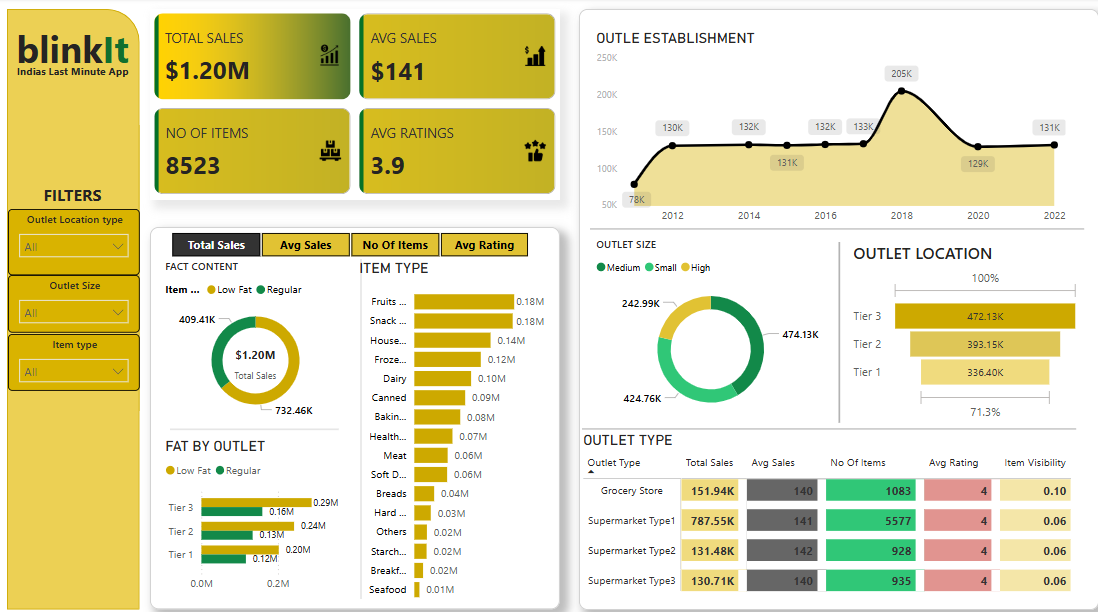

What the dashboard file says about the page in this screenshot:
{"tool":"powerbi","page":{"name":"Page 1","canvas":[1280,720],"ordinal":0},"visuals":[{"type":"shape","box":[675.2,12.5,604.5,697.6],"z":0},{"type":"shape","box":[10.7,12.5,154,697.6],"z":1000},{"type":"cardVisual","fields":{"Data":["BlinkIT Grocery Data.Total Sales","BlinkIT Grocery Data.Avg Sales","BlinkIT Grocery Data.no of items","BlinkIT Grocery Data.Avg Rating"]},"box":[176.6,12.8,476.2,221.9],"z":2000},{"type":"shape","box":[176.4,266,476.4,444.2],"z":3000},{"type":"textbox","box":[9.9,35.8,154,69.9],"z":4000},{"type":"textbox","box":[9.9,70.7,154.9,28.7],"z":5000},{"type":"donutChart","title":"FACT CONTENT","fields":{"Y":["BlinkIT Grocery Data.Total Sales"],"Category":["BlinkIT Grocery Data.Item Fat Content"]},"box":[189.3,303.2,219.5,191.7],"z":6000},{"type":"slicer","fields":{"Values":["Parameter.Parameter"]},"box":[176.6,266,463.4,37.2],"z":7000},{"type":"cardVisual","fields":{"Data":["BlinkIT Grocery Data.Total Sales"]},"box":[233.5,381,131.3,88.3],"z":8000},{"type":"clusteredBarChart","title":"FAT BY OUTLET","fields":{"Y":["BlinkIT Grocery Data.Total Sales"],"Category":["BlinkIT Grocery Data.Outlet Location Type"],"Series":["BlinkIT Grocery Data.Item Fat Content"]},"box":[189.3,509.9,225.3,188.2],"z":9000},{"type":"shape","box":[199.8,492.5,196.3,17.4],"z":10000},{"type":"shape","box":[414.7,303.2,13.9,394.9],"z":11000},{"type":"barChart","title":"ITEM TYPE","fields":{"Y":["BlinkIT Grocery Data.Total Sales"],"Category":["BlinkIT Grocery Data.Item Type"]},"box":[414.7,303.2,225.3,406.5],"z":12000},{"type":"lineChart","title":"OUTLE ESTABLISHMENT","fields":{"Y":["BlinkIT Grocery Data.Total Sales"],"Category":["BlinkIT Grocery Data.Outlet Establishment Year"]},"box":[689.9,36,555.2,234.6],"z":13000},{"type":"shape","box":[687.6,253.2,573.8,30.2],"z":14000},{"type":"donutChart","title":"OUTLET SIZE","fields":{"Y":["BlinkIT Grocery Data.Total Sales"],"Category":["BlinkIT Grocery Data.Outlet Size"]},"box":[689.6,277.6,275.8,217.6],"z":15000},{"type":"shape","box":[965.2,283.4,24.4,210.2],"z":16000},{"type":"funnel","title":"OUTLET LOCATION","fields":{"Y":["Sum(BlinkIT Grocery Data.Sales)"],"Category":["BlinkIT Grocery Data.Outlet Location Type"]},"box":[988.7,283,273.1,212.2],"z":17000},{"type":"pivotTable","title":"OUTLET TYPE","fields":{"Values":["BlinkIT Grocery Data.Total Sales","BlinkIT Grocery Data.Avg Sales","BlinkIT Grocery Data.No Of Items","BlinkIT Grocery Data.Avg Rating","Avg(BlinkIT Grocery Data.Item Visibility)"],"Rows":["BlinkIT Grocery Data.Outlet Type"]},"box":[674.8,502.9,586.6,195.1],"z":18000},{"type":"shape","box":[678.3,485.5,573.8,30.2],"z":19000},{"type":"slicer","title":"Outlet Location type","fields":{"Values":["BlinkIT Grocery Data.Outlet Location Type"]},"box":[11.6,245.1,153.3,76.7],"z":20000},{"type":"slicer","title":"Outlet Size","fields":{"Values":["BlinkIT Grocery Data.Outlet Size"]},"box":[11.6,321.7,153.3,67.4],"z":21000},{"type":"slicer","title":"Item type","fields":{"Values":["BlinkIT Grocery Data.Item Type"]},"box":[11.6,390.3,153.3,66.2],"z":22000},{"type":"textbox","box":[9.3,210.2,154.5,34.8],"z":23000}]}

Visuals, with their boxes in screenshot pixels (x1, y1, x2, y2), scaled from the page's 1280x720 canvas onto the 1098x612 screenshot:
shape: region(579, 11, 1097, 604)
shape: region(9, 11, 141, 604)
cardVisual - BlinkIT Grocery Data.Total Sales x BlinkIT Grocery Data.Avg Sales: region(151, 11, 560, 199)
shape: region(151, 226, 560, 604)
textbox: region(8, 30, 141, 90)
textbox: region(8, 60, 141, 84)
"FACT CONTENT" donutChart: region(162, 258, 351, 421)
slicer - Parameter.Parameter: region(151, 226, 549, 258)
cardVisual - BlinkIT Grocery Data.Total Sales: region(200, 324, 313, 399)
"FAT BY OUTLET" clusteredBarChart: region(162, 433, 356, 593)
shape: region(171, 419, 340, 433)
shape: region(356, 258, 368, 593)
"ITEM TYPE" barChart: region(356, 258, 549, 603)
"OUTLE ESTABLISHMENT" lineChart: region(592, 31, 1068, 230)
shape: region(590, 215, 1082, 241)
"OUTLET SIZE" donutChart: region(592, 236, 828, 421)
shape: region(828, 241, 849, 420)
"OUTLET LOCATION" funnel: region(848, 241, 1082, 421)
"OUTLET TYPE" pivotTable: region(579, 427, 1082, 593)
shape: region(582, 413, 1074, 438)
"Outlet Location type" slicer: region(10, 208, 141, 274)
"Outlet Size" slicer: region(10, 273, 141, 331)
"Item type" slicer: region(10, 332, 141, 388)
textbox: region(8, 179, 141, 208)
